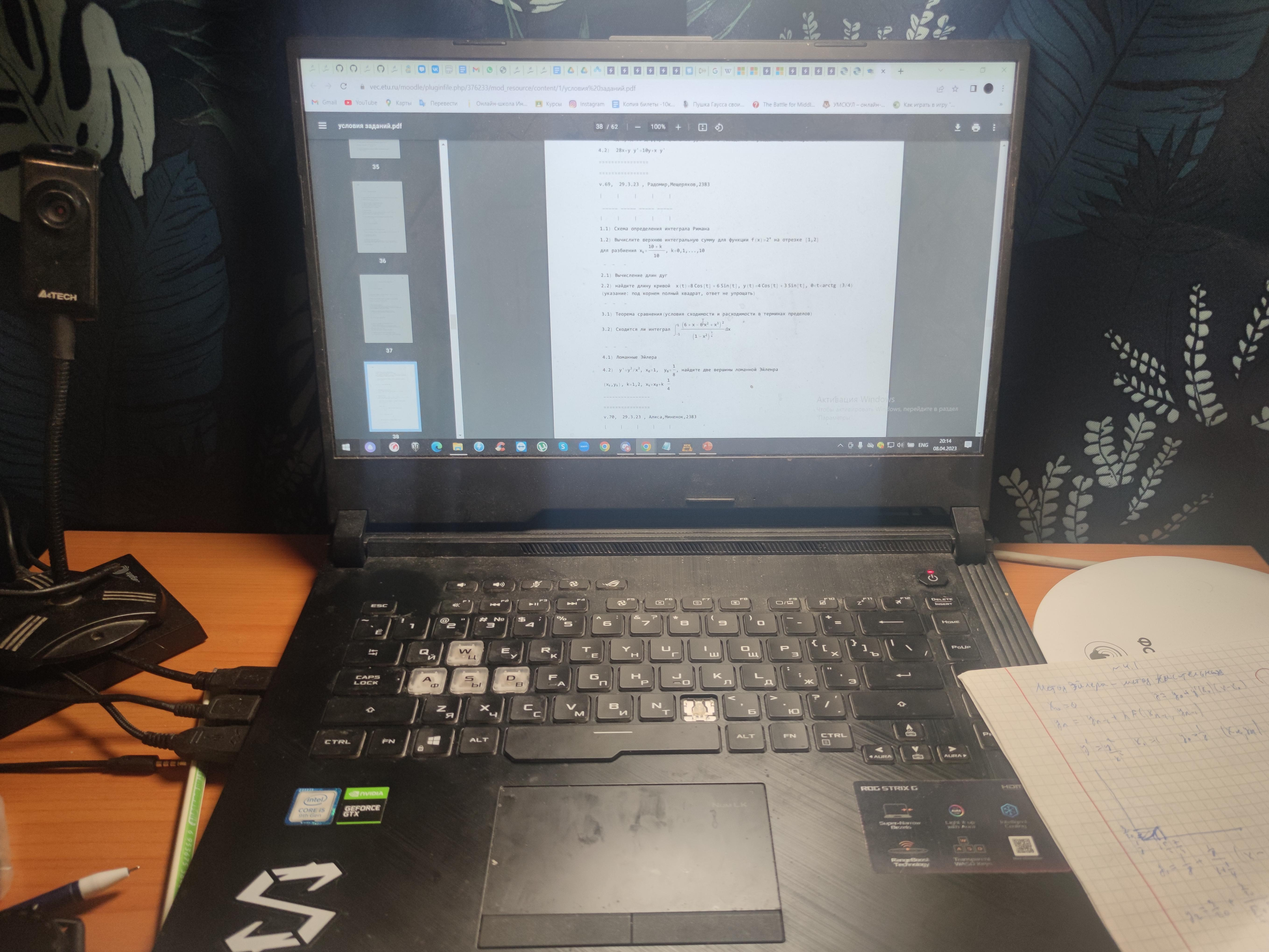monitor: (271, 26, 1055, 549)
